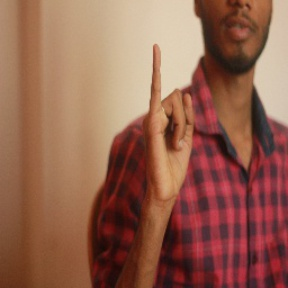I: (142, 42, 201, 192)
